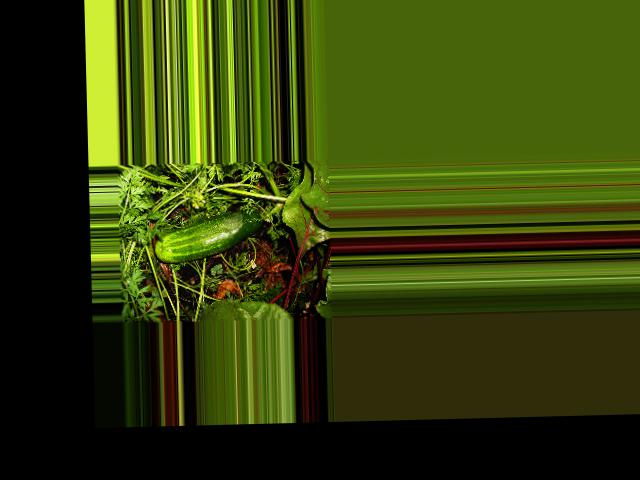cucumber: (155, 207, 265, 263)
